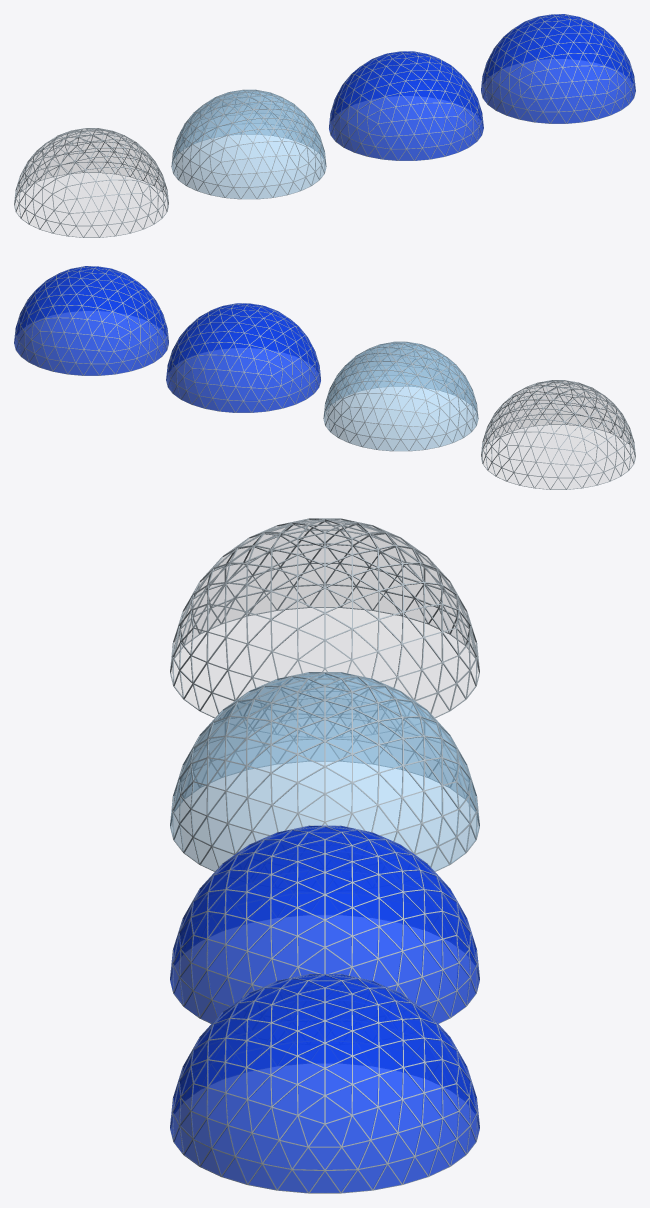
The model's file is geodesic_dome_medium.obj.
3 views of the same model, one above another, from view 1: azimuth 30°, elevation 25°; view 2: azimuth 150°, elevation 25°; view 3: azimuth 270°, elevation 25° (orthographic). The views are drawn at different scales.
Parts seen in each view (by area): view 1: Windows3, Windows4, Windows2, Frame, Frame2, Frame4, Frame3, Windows; view 2: Windows3, Windows4, Windows2, Frame, Frame2, Frame4, Frame3, Windows; view 3: Windows4, Windows3, Windows2, Frame, Frame2, Frame4, Frame3, Windows.
Boxes of the visible parts, bbox=[...] form: Windows3: bbox=[329, 51, 483, 160]; Windows4: bbox=[481, 14, 635, 123]; Windows2: bbox=[171, 90, 325, 198]; Frame: bbox=[14, 128, 168, 237]; Frame2: bbox=[171, 89, 326, 199]; Frame4: bbox=[481, 14, 635, 123]; Frame3: bbox=[329, 51, 483, 160]; Windows: bbox=[17, 129, 165, 195]; Windows3: bbox=[166, 303, 320, 412]; Windows4: bbox=[14, 266, 168, 375]; Windows2: bbox=[323, 342, 478, 450]; Frame: bbox=[481, 380, 635, 489]; Frame2: bbox=[323, 341, 478, 451]; Frame4: bbox=[14, 266, 168, 375]; Frame3: bbox=[166, 303, 320, 412]; Windows: bbox=[483, 381, 632, 447]; Windows4: bbox=[170, 974, 479, 1192]; Windows3: bbox=[170, 825, 479, 1023]; Windows2: bbox=[170, 672, 479, 871]; Frame: bbox=[170, 518, 479, 737]; Frame2: bbox=[170, 672, 479, 871]; Frame4: bbox=[170, 974, 479, 1193]; Frame3: bbox=[170, 825, 479, 1023]; Windows: bbox=[174, 522, 475, 656].
Size of the model in its own units: 245 by 27.48 by 54.94.
